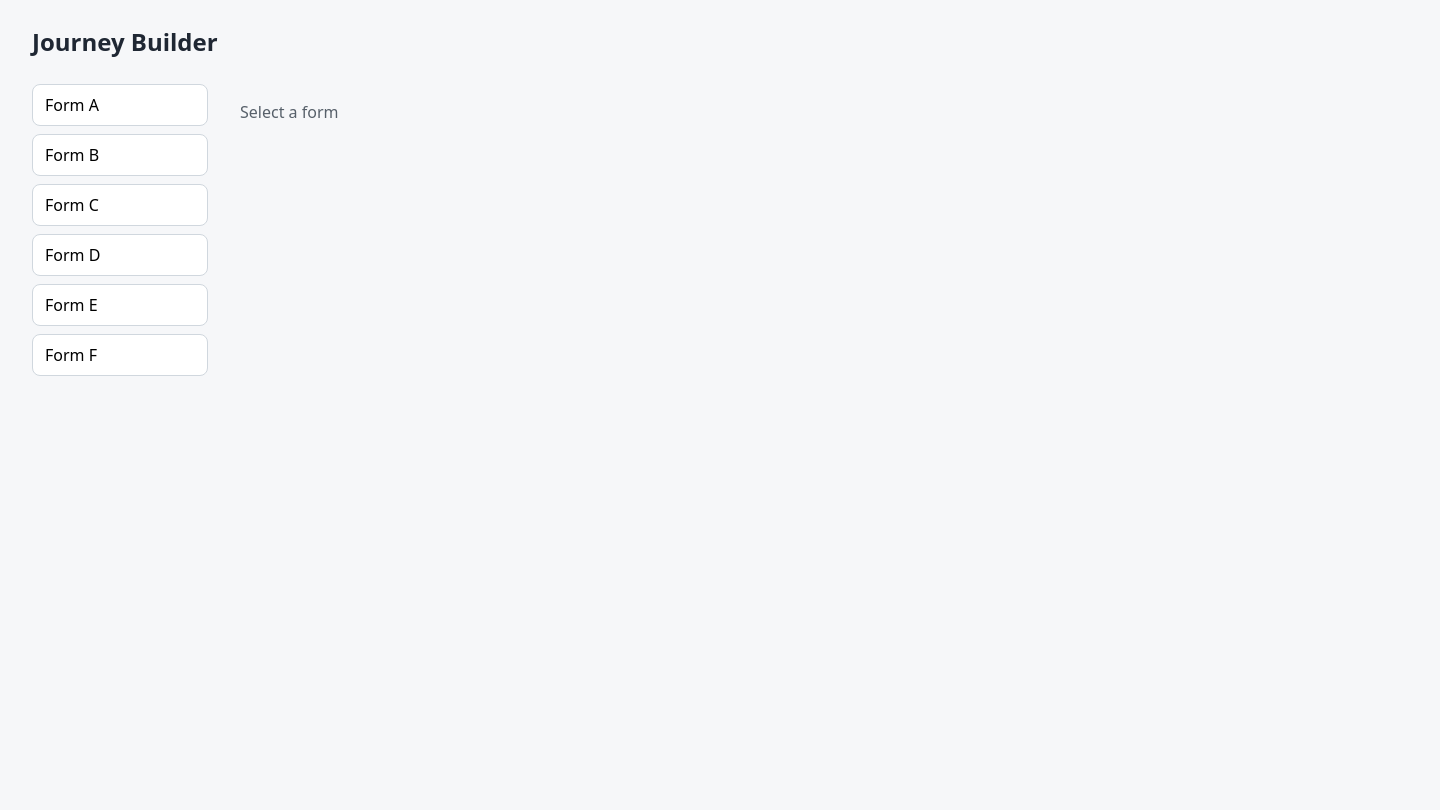
Test: App › maps field from modal selection and clears it, completing the prefill flow
Click the button "Form D". click: (120, 255)
box: [32,234,208,276]
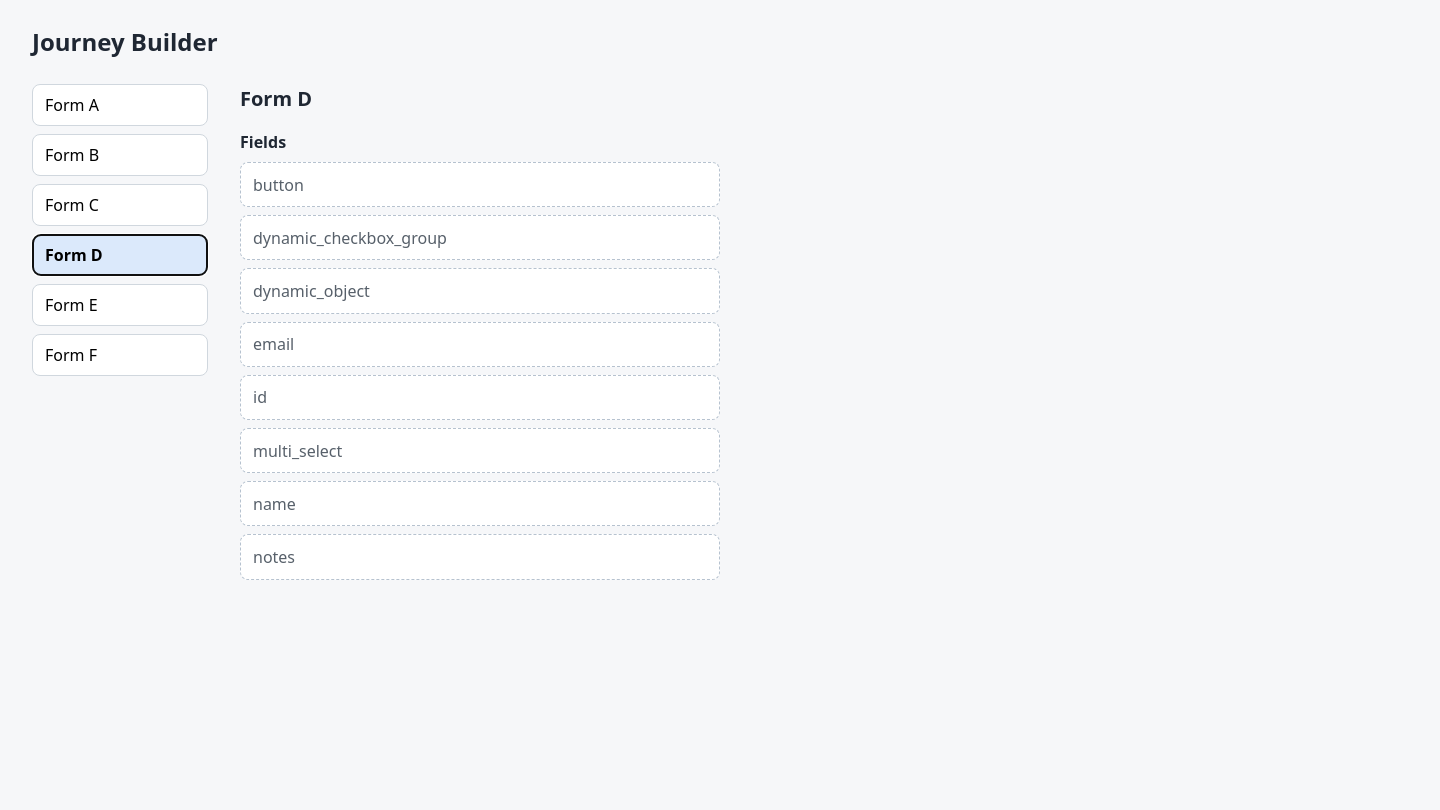
Click the button with aria-label "Map email". click: (274, 344)
box: [240,322,720,367]
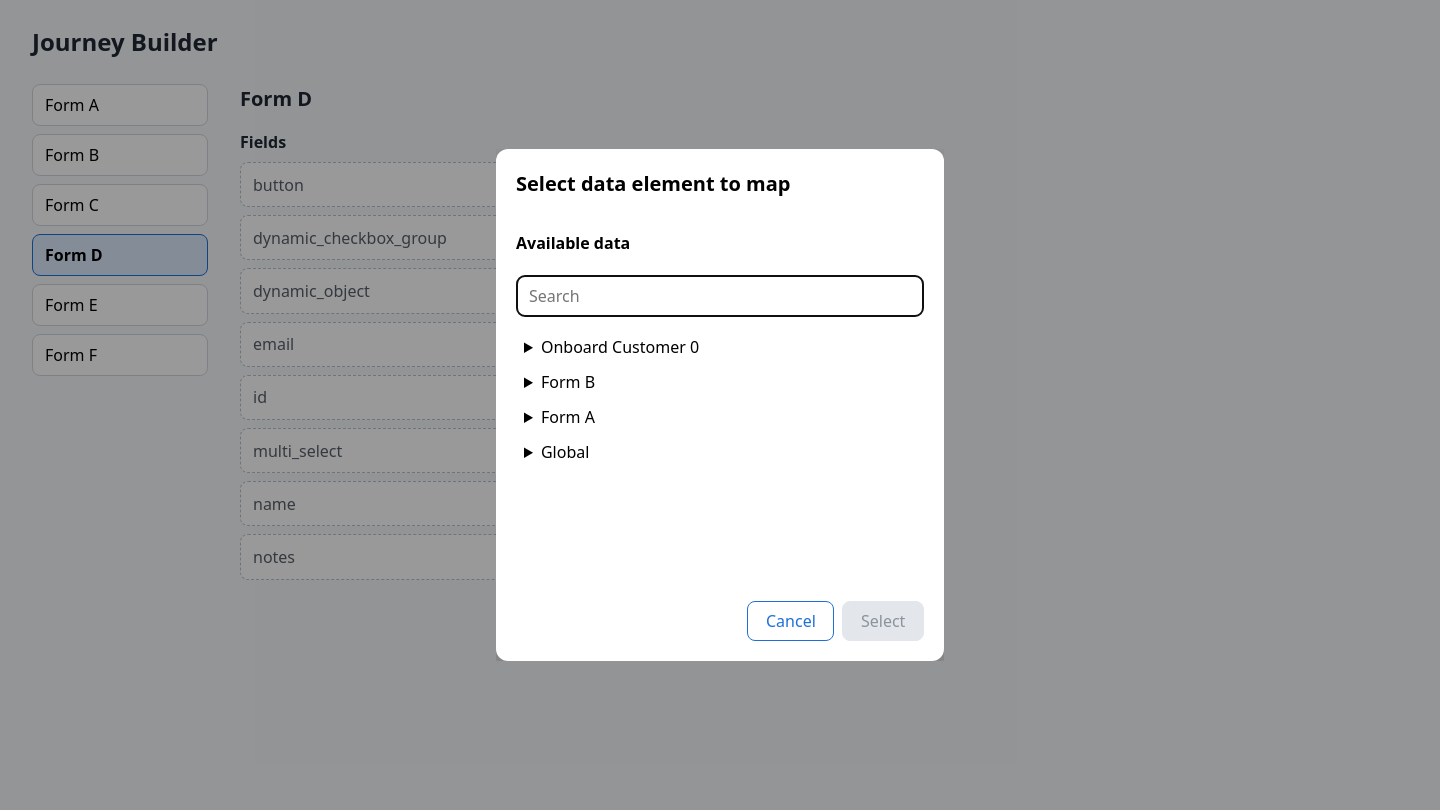
Click the heading "Form A". click: (568, 417)
box: [541,406,595,428]
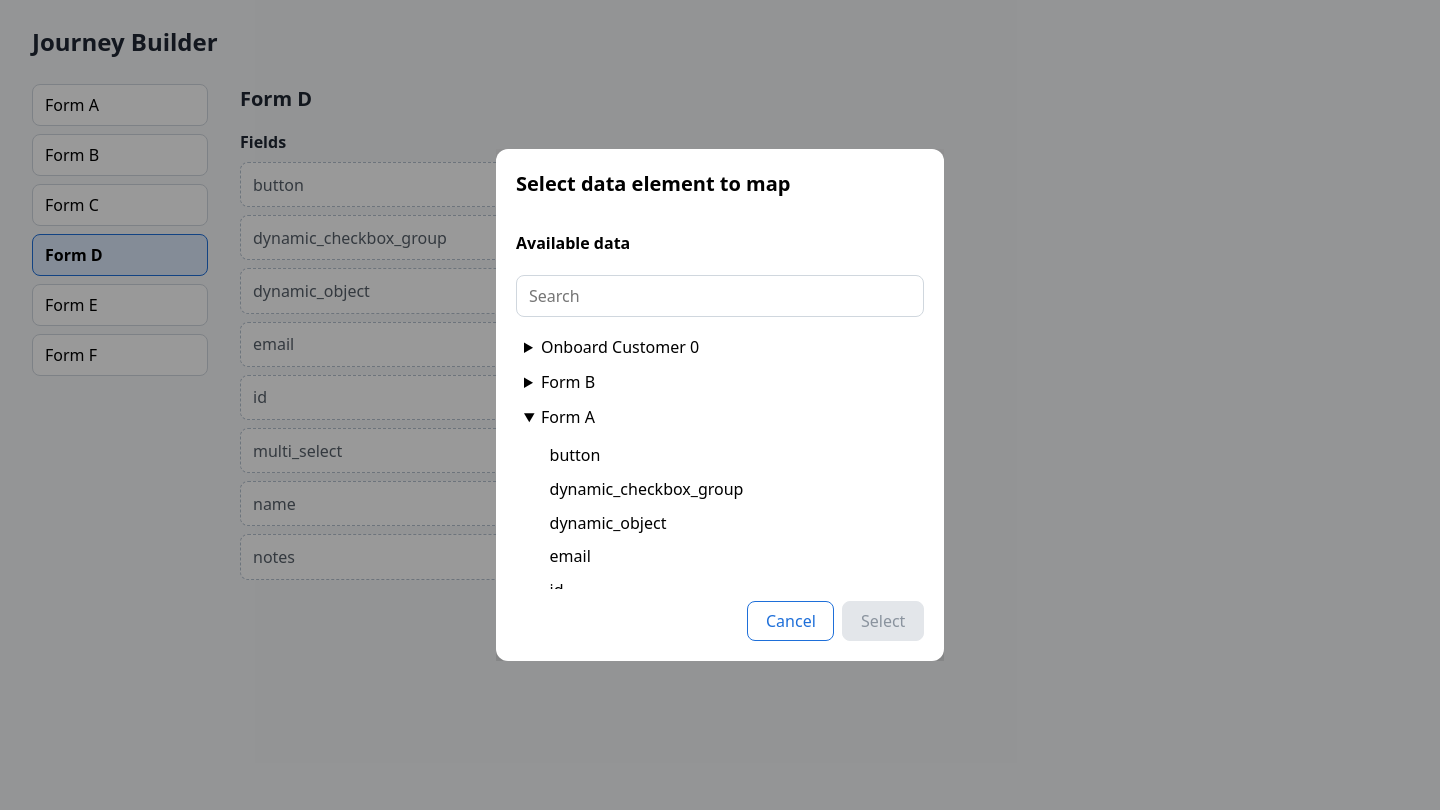
Click the button "email". click: (570, 556)
box: [540,539,924,573]
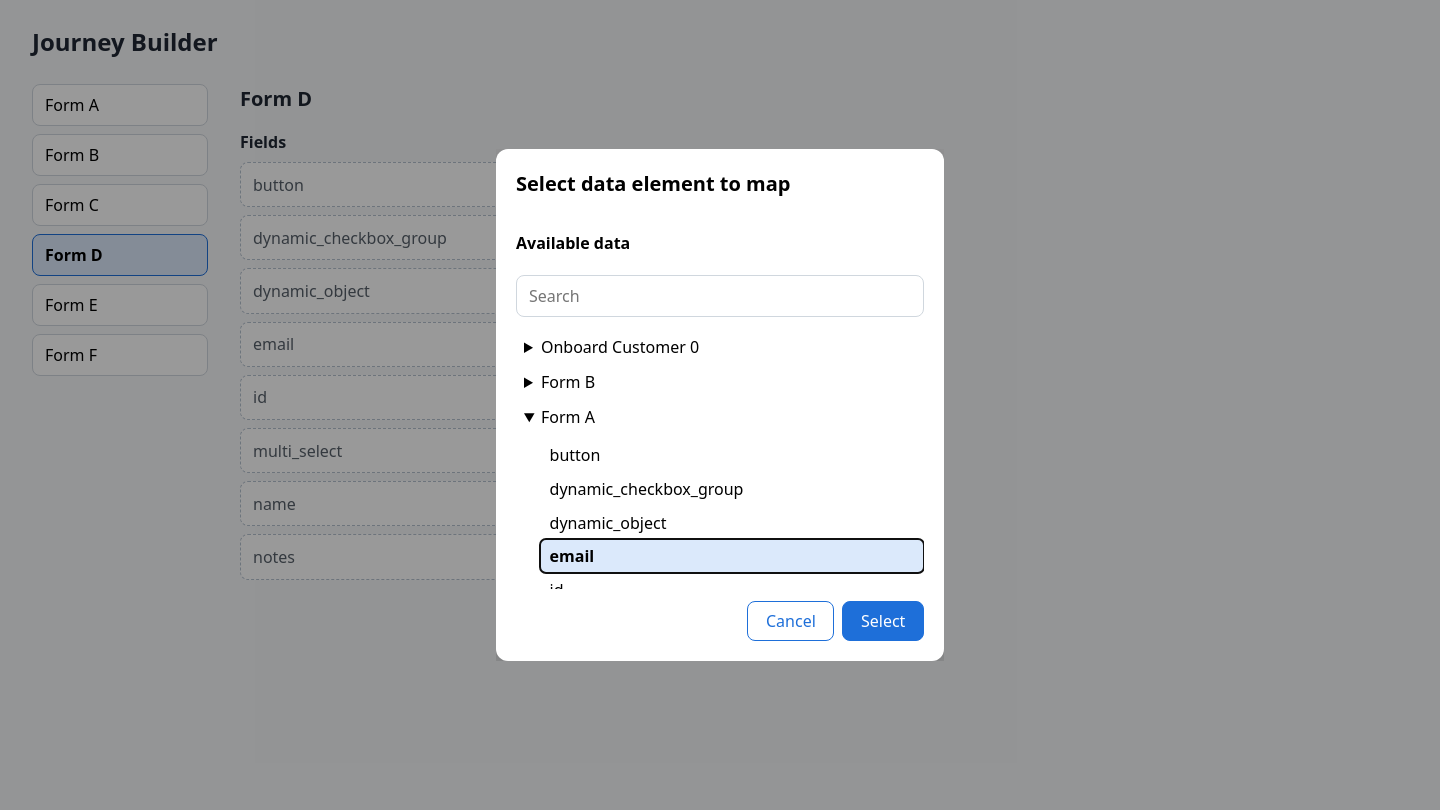
Click the button "Select". click: (883, 621)
box: [842,601,924,641]
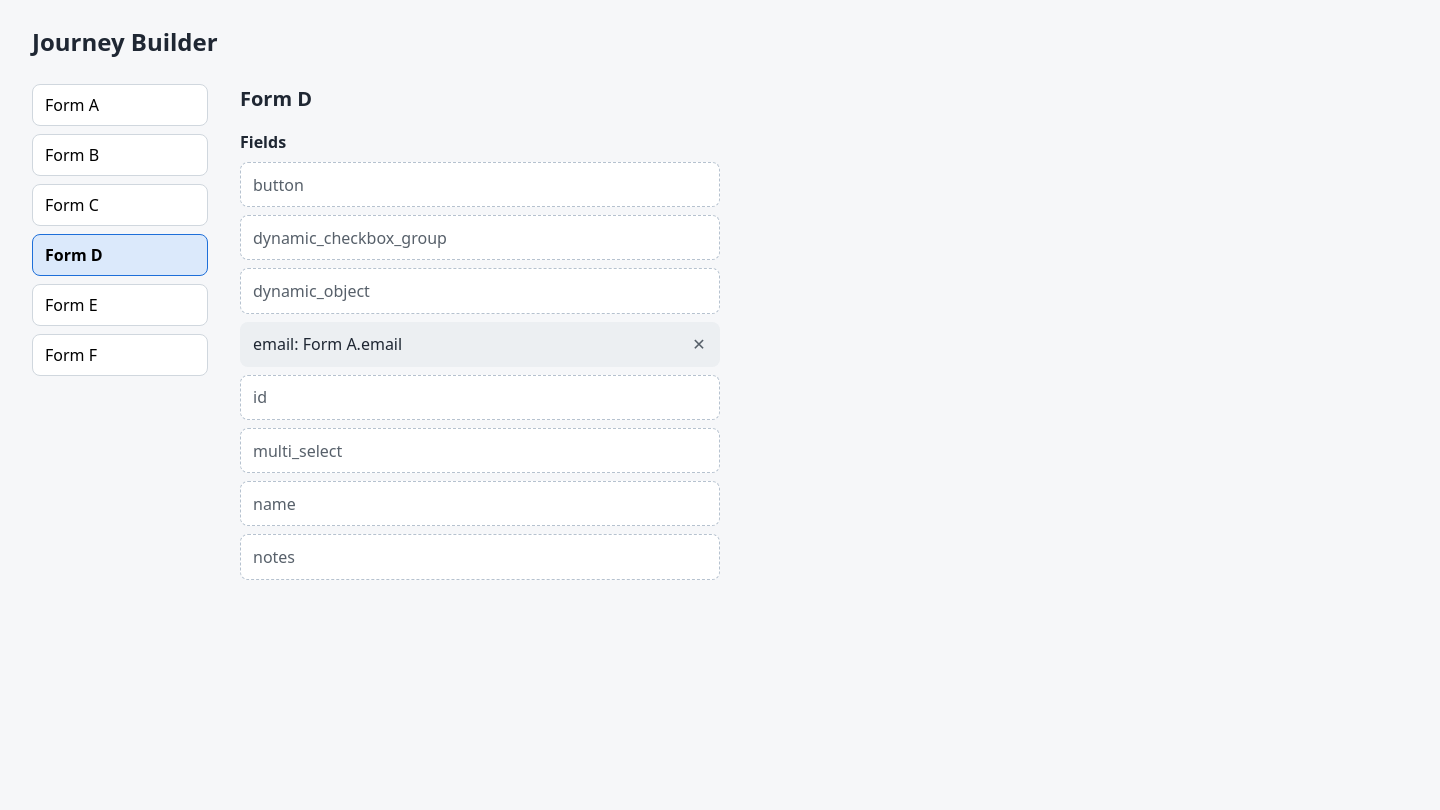
Check: the dialog is gone
Check: the text "email: Form A.email" is shown, box [240,322,720,367]
Click the button named "Clear mapping for email". click: (699, 344)
box: [687,332,711,356]
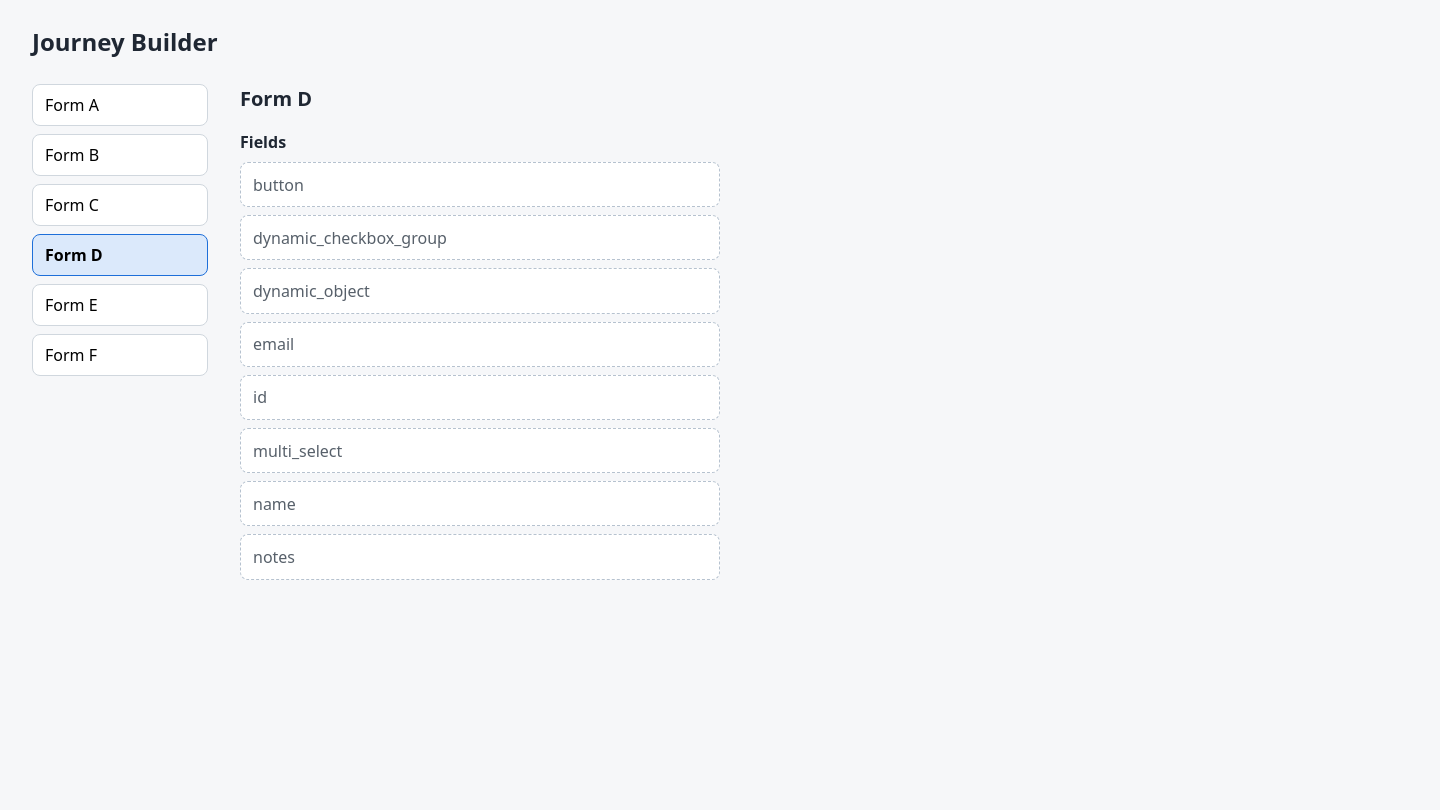
Check: the button with aria-label "Map email" is shown, box [240,322,720,367]
Check: the text "email: Form A.email" is gone
